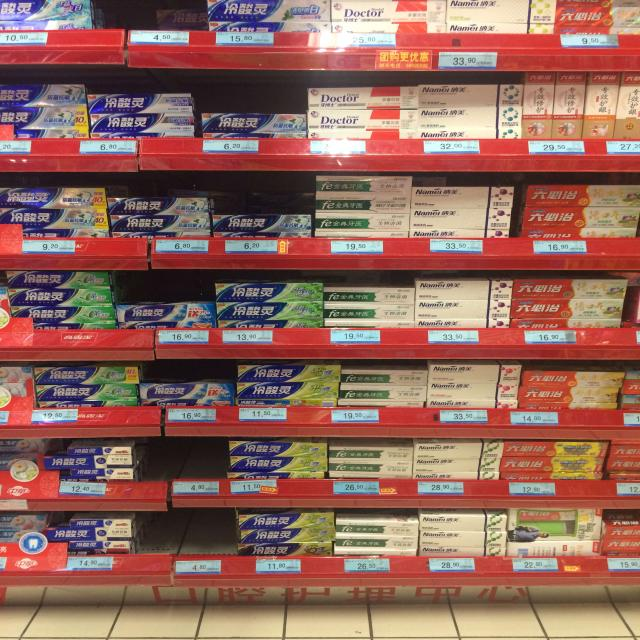unorganised: (508, 505, 603, 542), (417, 84, 519, 106), (154, 8, 205, 32)
